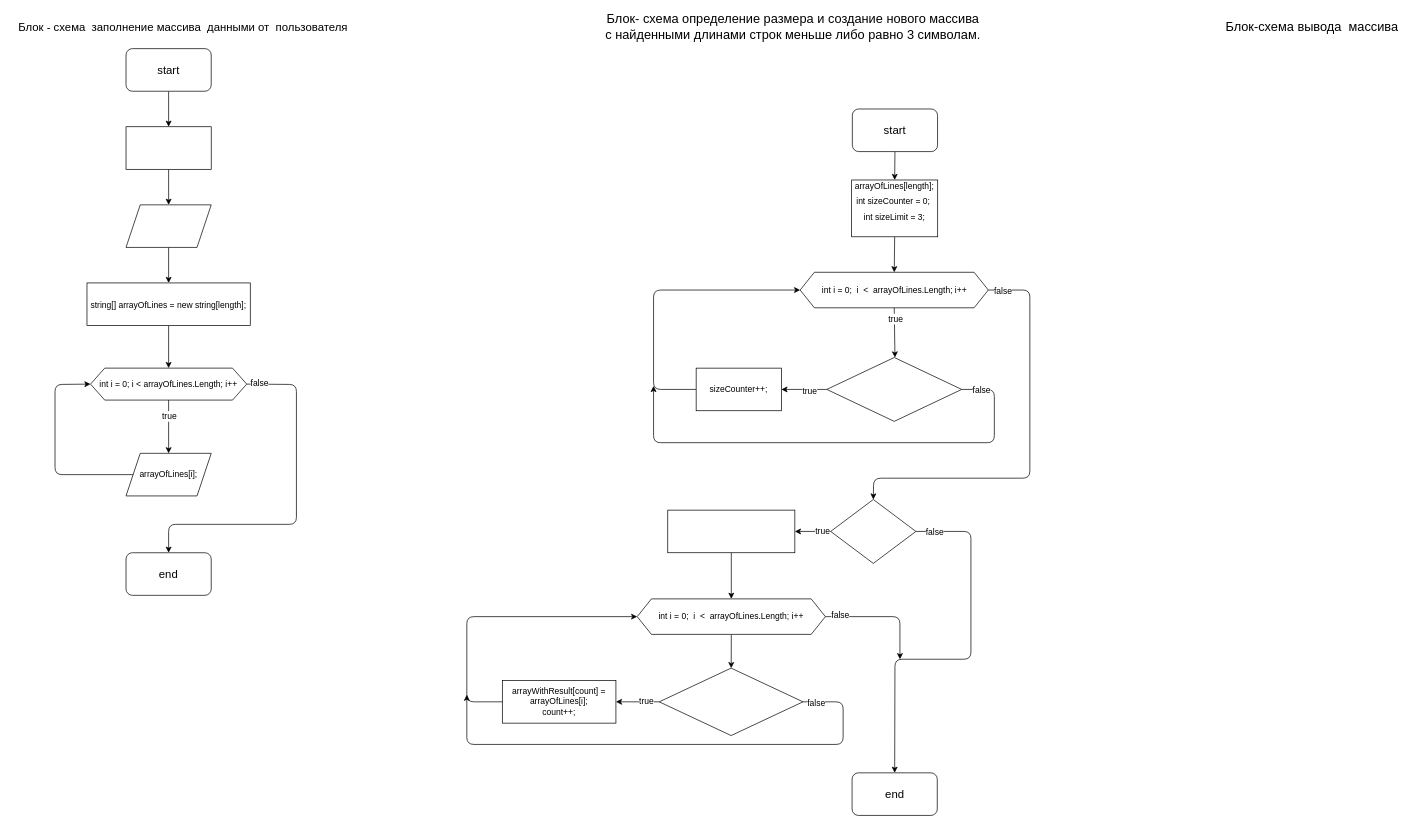
Some shapes in this 1416 by 828 pixel diagram are drawn without their labels. The shapes that lost their labels are listed below. From the top down, each one's centre as x and y in pixels, then its label:
At [168,147]: "int length;".
At [168,225]: "length;".
At [894,389]: "arrayOfLines[i] <= sizeLimit".
At [731,531]: "string[] arrayWithResult = new string[sizeCounter]; int count = 0;".
At [873,531]: "sizeCounter != 0".
At [731,701]: "arrayOfLines[i].Length <= sizeLimit".
